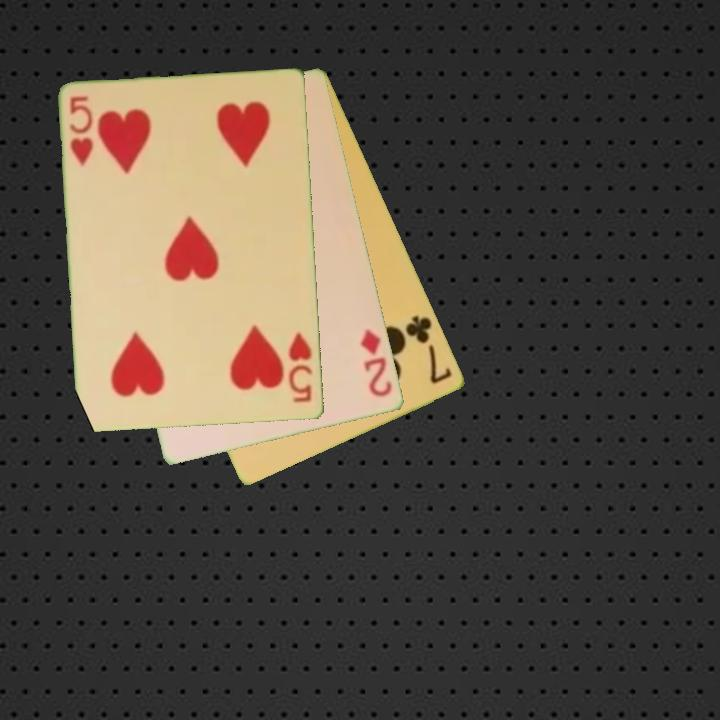2d: (357, 326, 396, 400)
5h: (285, 329, 316, 406), (66, 93, 96, 169)
7c: (402, 312, 456, 387)
